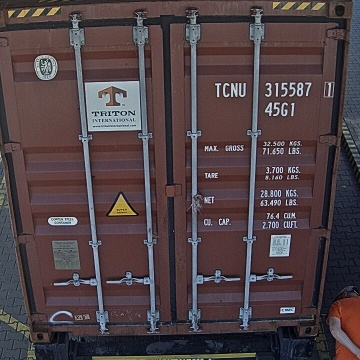serial_id: (214, 81, 333, 97)
